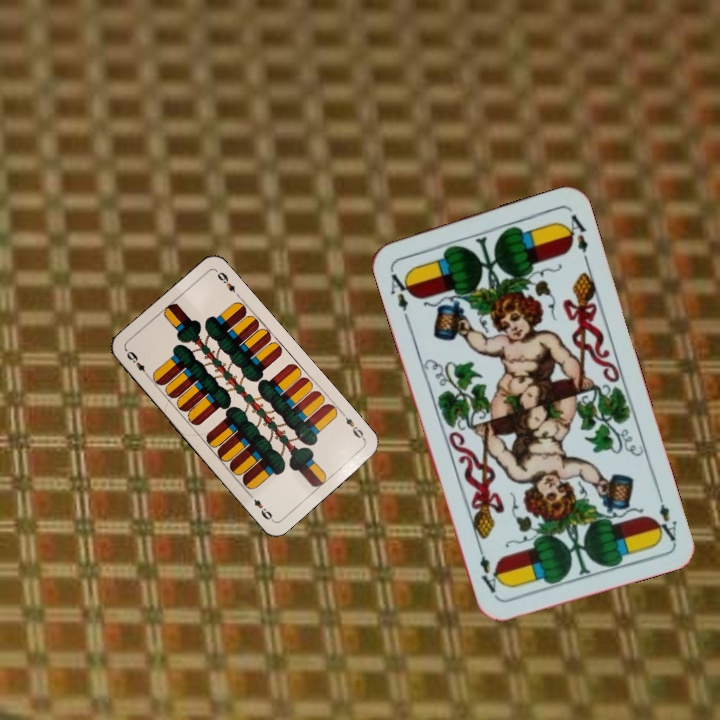E9: (337, 408, 368, 443), (121, 346, 152, 380)
EA: (650, 486, 680, 544), (386, 270, 416, 322)
